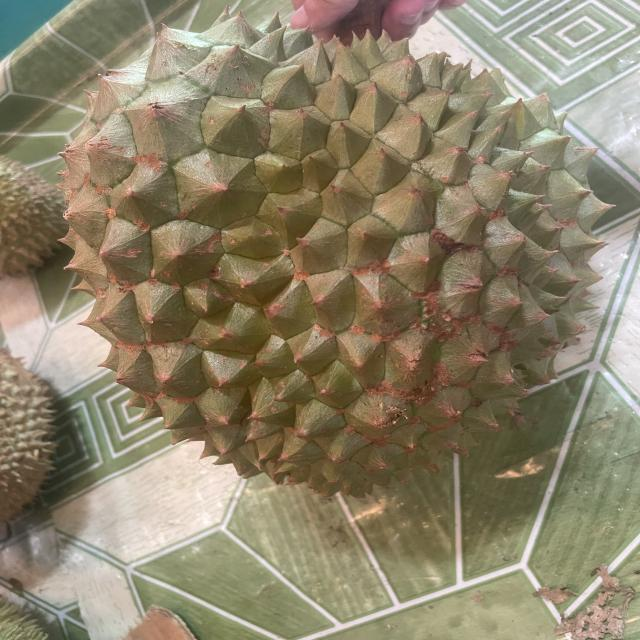mature: (37, 21, 617, 494)
